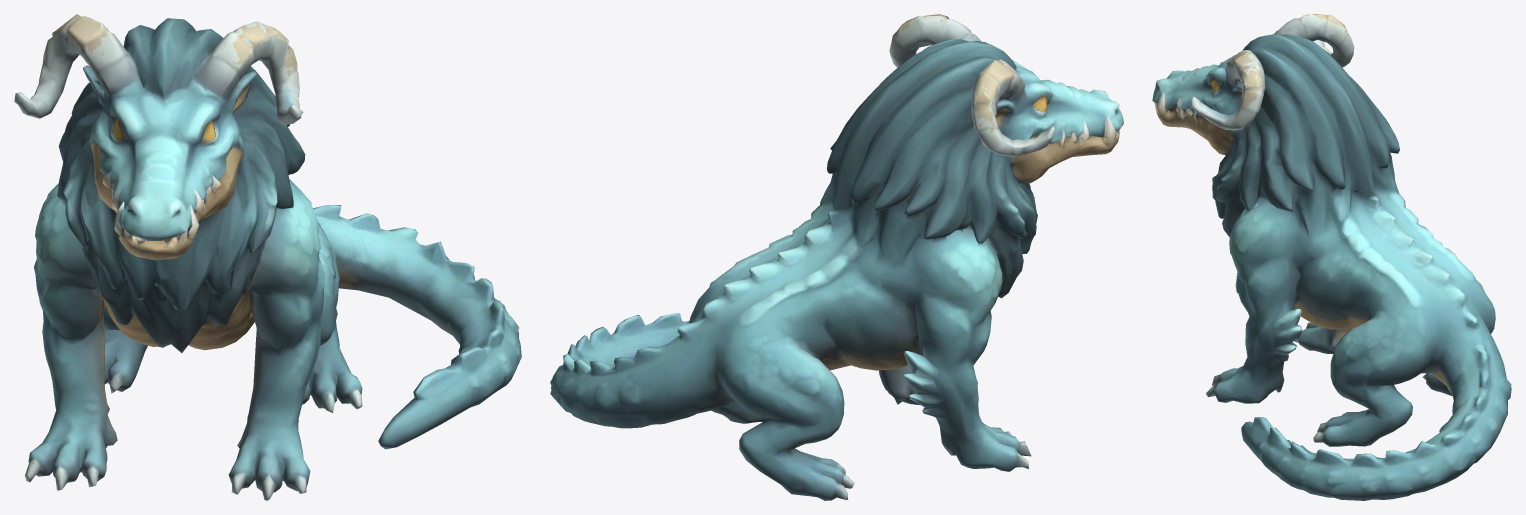
Rendered from source.glb.
3 renders of one model, left to right at view 1: azimuth 30°, elevation 25°; view 2: azimuth 150°, elevation 25°; view 3: azimuth 270°, elevation 25°, orthographic. The views are drawn at different scales.
Visible parts, largest first — view 1: tripo_node_47f3a0c7-9bda-4d0b-9b3a-a6688d5ab203; view 2: tripo_node_47f3a0c7-9bda-4d0b-9b3a-a6688d5ab203; view 3: tripo_node_47f3a0c7-9bda-4d0b-9b3a-a6688d5ab203.
Part boxes in pixels (x1=…): tripo_node_47f3a0c7-9bda-4d0b-9b3a-a6688d5ab203: x1=14, y1=14, x2=521, y2=500; tripo_node_47f3a0c7-9bda-4d0b-9b3a-a6688d5ab203: x1=550, y1=14, x2=1123, y2=500; tripo_node_47f3a0c7-9bda-4d0b-9b3a-a6688d5ab203: x1=1152, y1=14, x2=1511, y2=500.
Bounding box in the file's own units: 0.9943 × 0.829 × 0.8042.
Materials: 1 (1 with a texture image).
